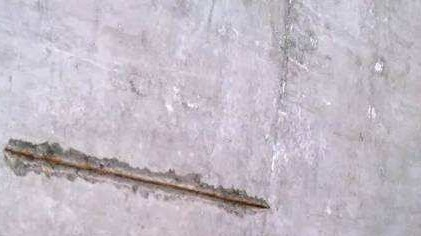Exposed reinforcement: (2, 147, 270, 211)
Spalling: (2, 138, 271, 219)
